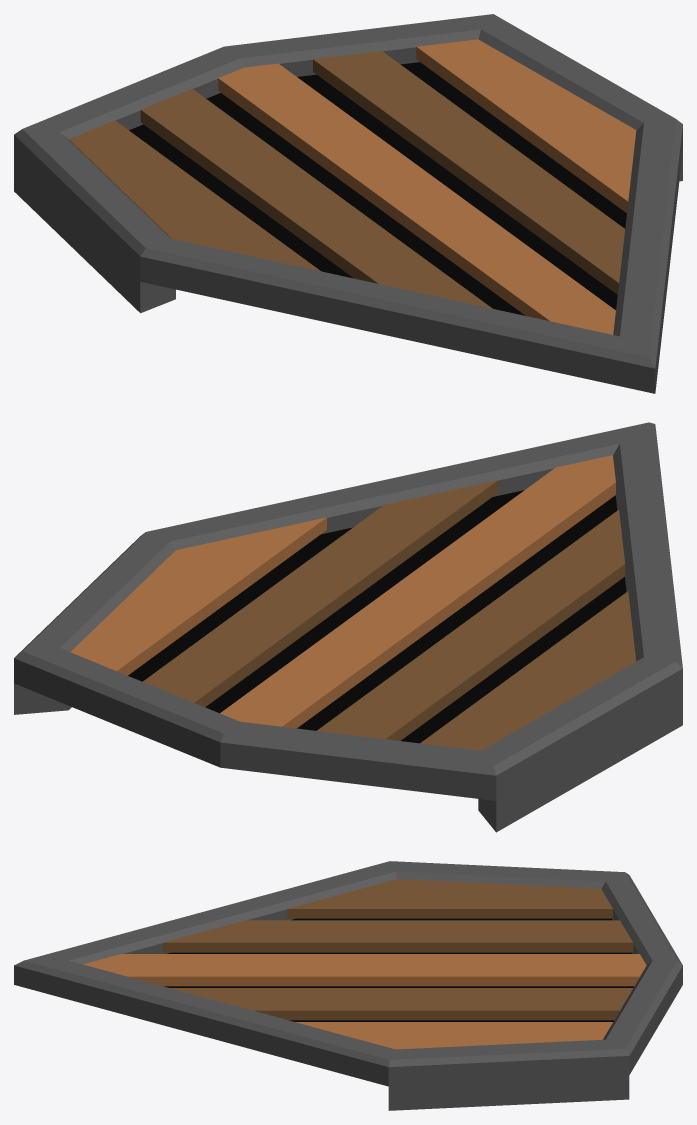
File: shield.fbx
3 renders of one model, top to bottom at view 1: azimuth 30°, elevation 25°; view 2: azimuth 150°, elevation 25°; view 3: azimuth 270°, elevation 25°, orthographic. The views are drawn at different scales.
Visible parts, largest first — view 1: Shield; view 2: Shield; view 3: Shield.
Boxes of the visible parts, bbox=[...] form: Shield: bbox=[14, 14, 682, 393]; Shield: bbox=[14, 422, 682, 832]; Shield: bbox=[14, 861, 682, 1110].
Size of the model in its own units: 180 by 20 by 250.
